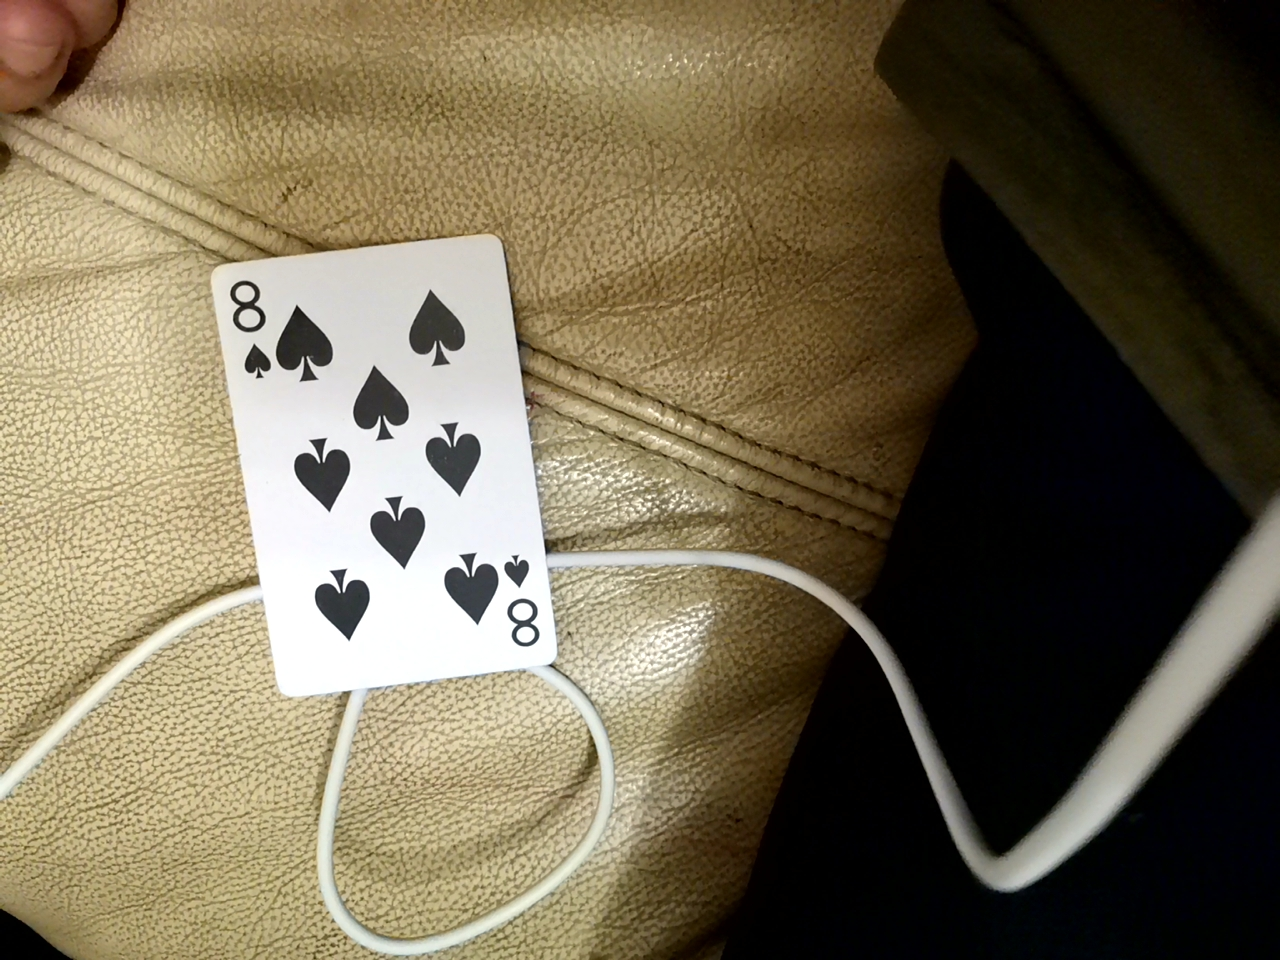ht 8: (209, 216, 567, 717)
